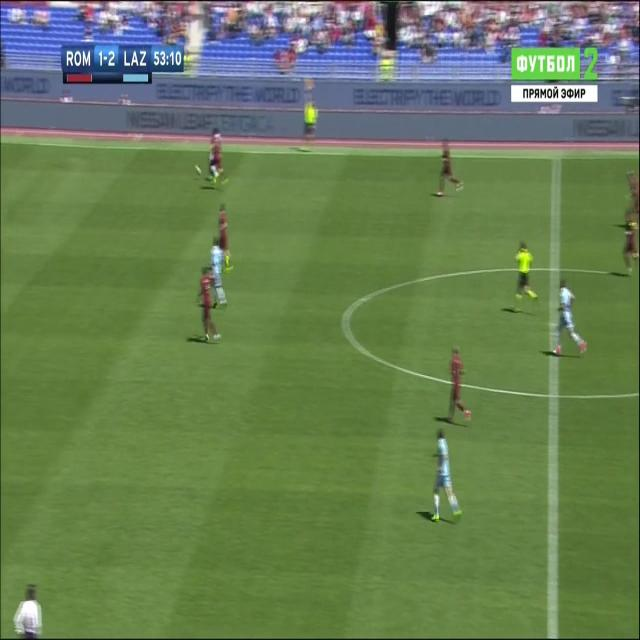Ball: (192, 161, 202, 179)
Player: (429, 422, 467, 528), (552, 276, 589, 358), (193, 266, 226, 347), (446, 343, 475, 426), (434, 135, 465, 201), (209, 234, 230, 313), (208, 128, 231, 190), (217, 197, 233, 273), (621, 218, 640, 276), (624, 165, 640, 215)
Referee: (511, 239, 544, 319), (301, 90, 320, 155)
